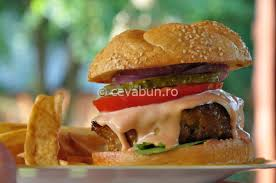hamburger: (85, 20, 261, 169)
